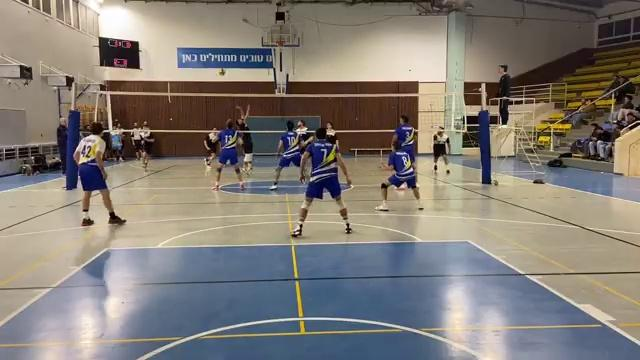ball: (217, 67, 230, 79)
